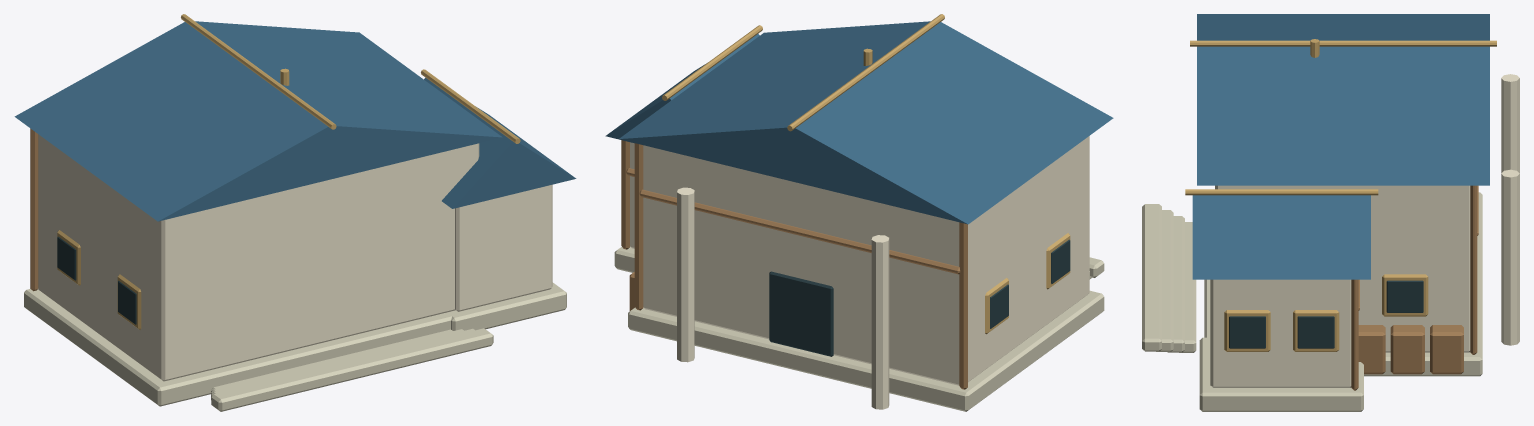
File: level_25.glb
3 views of the same model, side by side, from view 1: azimuth 30°, elevation 25°; view 2: azimuth 150°, elevation 25°; view 3: azimuth 270°, elevation 25° (orthographic). The views are drawn at different scales.
Parts seen in each view (by area): view 1: warehouse — level 25; view 2: warehouse — level 25; view 3: warehouse — level 25.
Part boxes in pixels (box(x1,y1,x2,y2)): warehouse — level 25: box(14, 14, 576, 411); warehouse — level 25: box(605, 14, 1113, 411); warehouse — level 25: box(1142, 14, 1519, 411).
Size of the model in its own units: 6.87 by 4.01 by 5.29.
